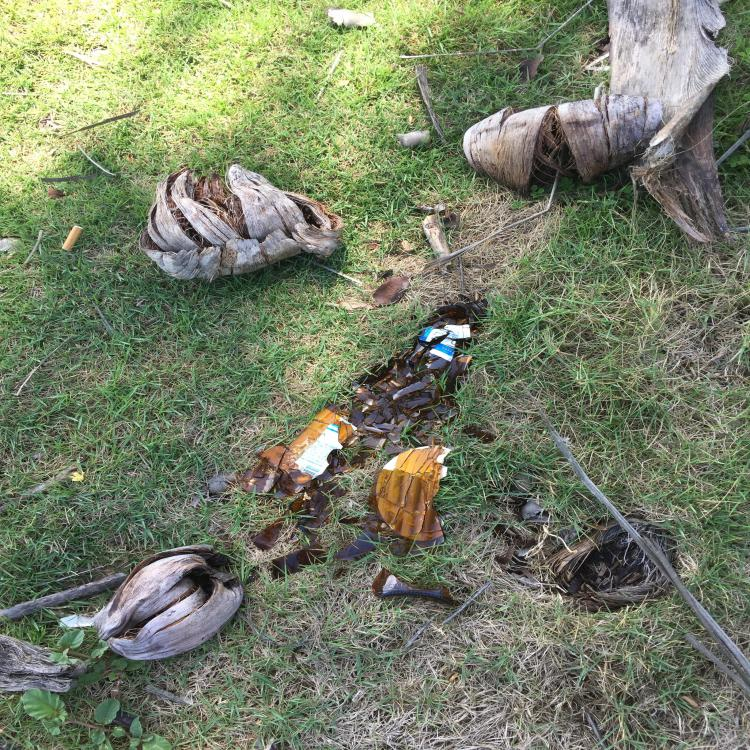Broken glass: (239, 302, 490, 580), (372, 568, 456, 606), (251, 509, 287, 551)
Cigarette: (61, 226, 83, 252)
